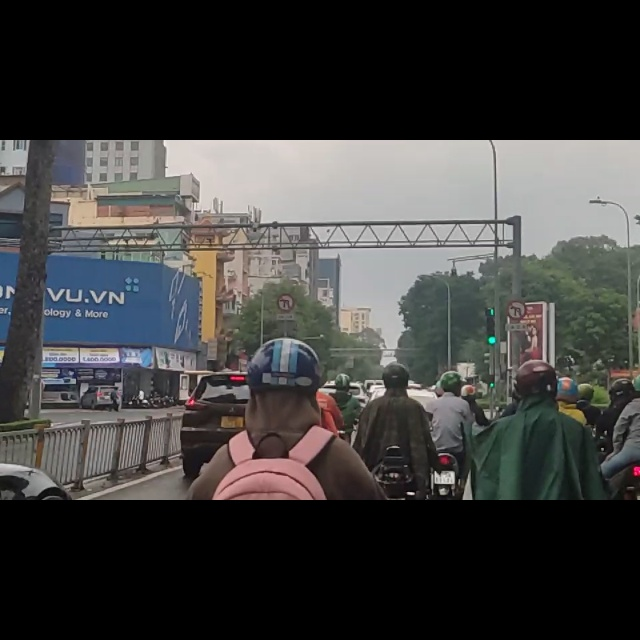bien_cam: (505, 284, 525, 319), (276, 271, 296, 306)
